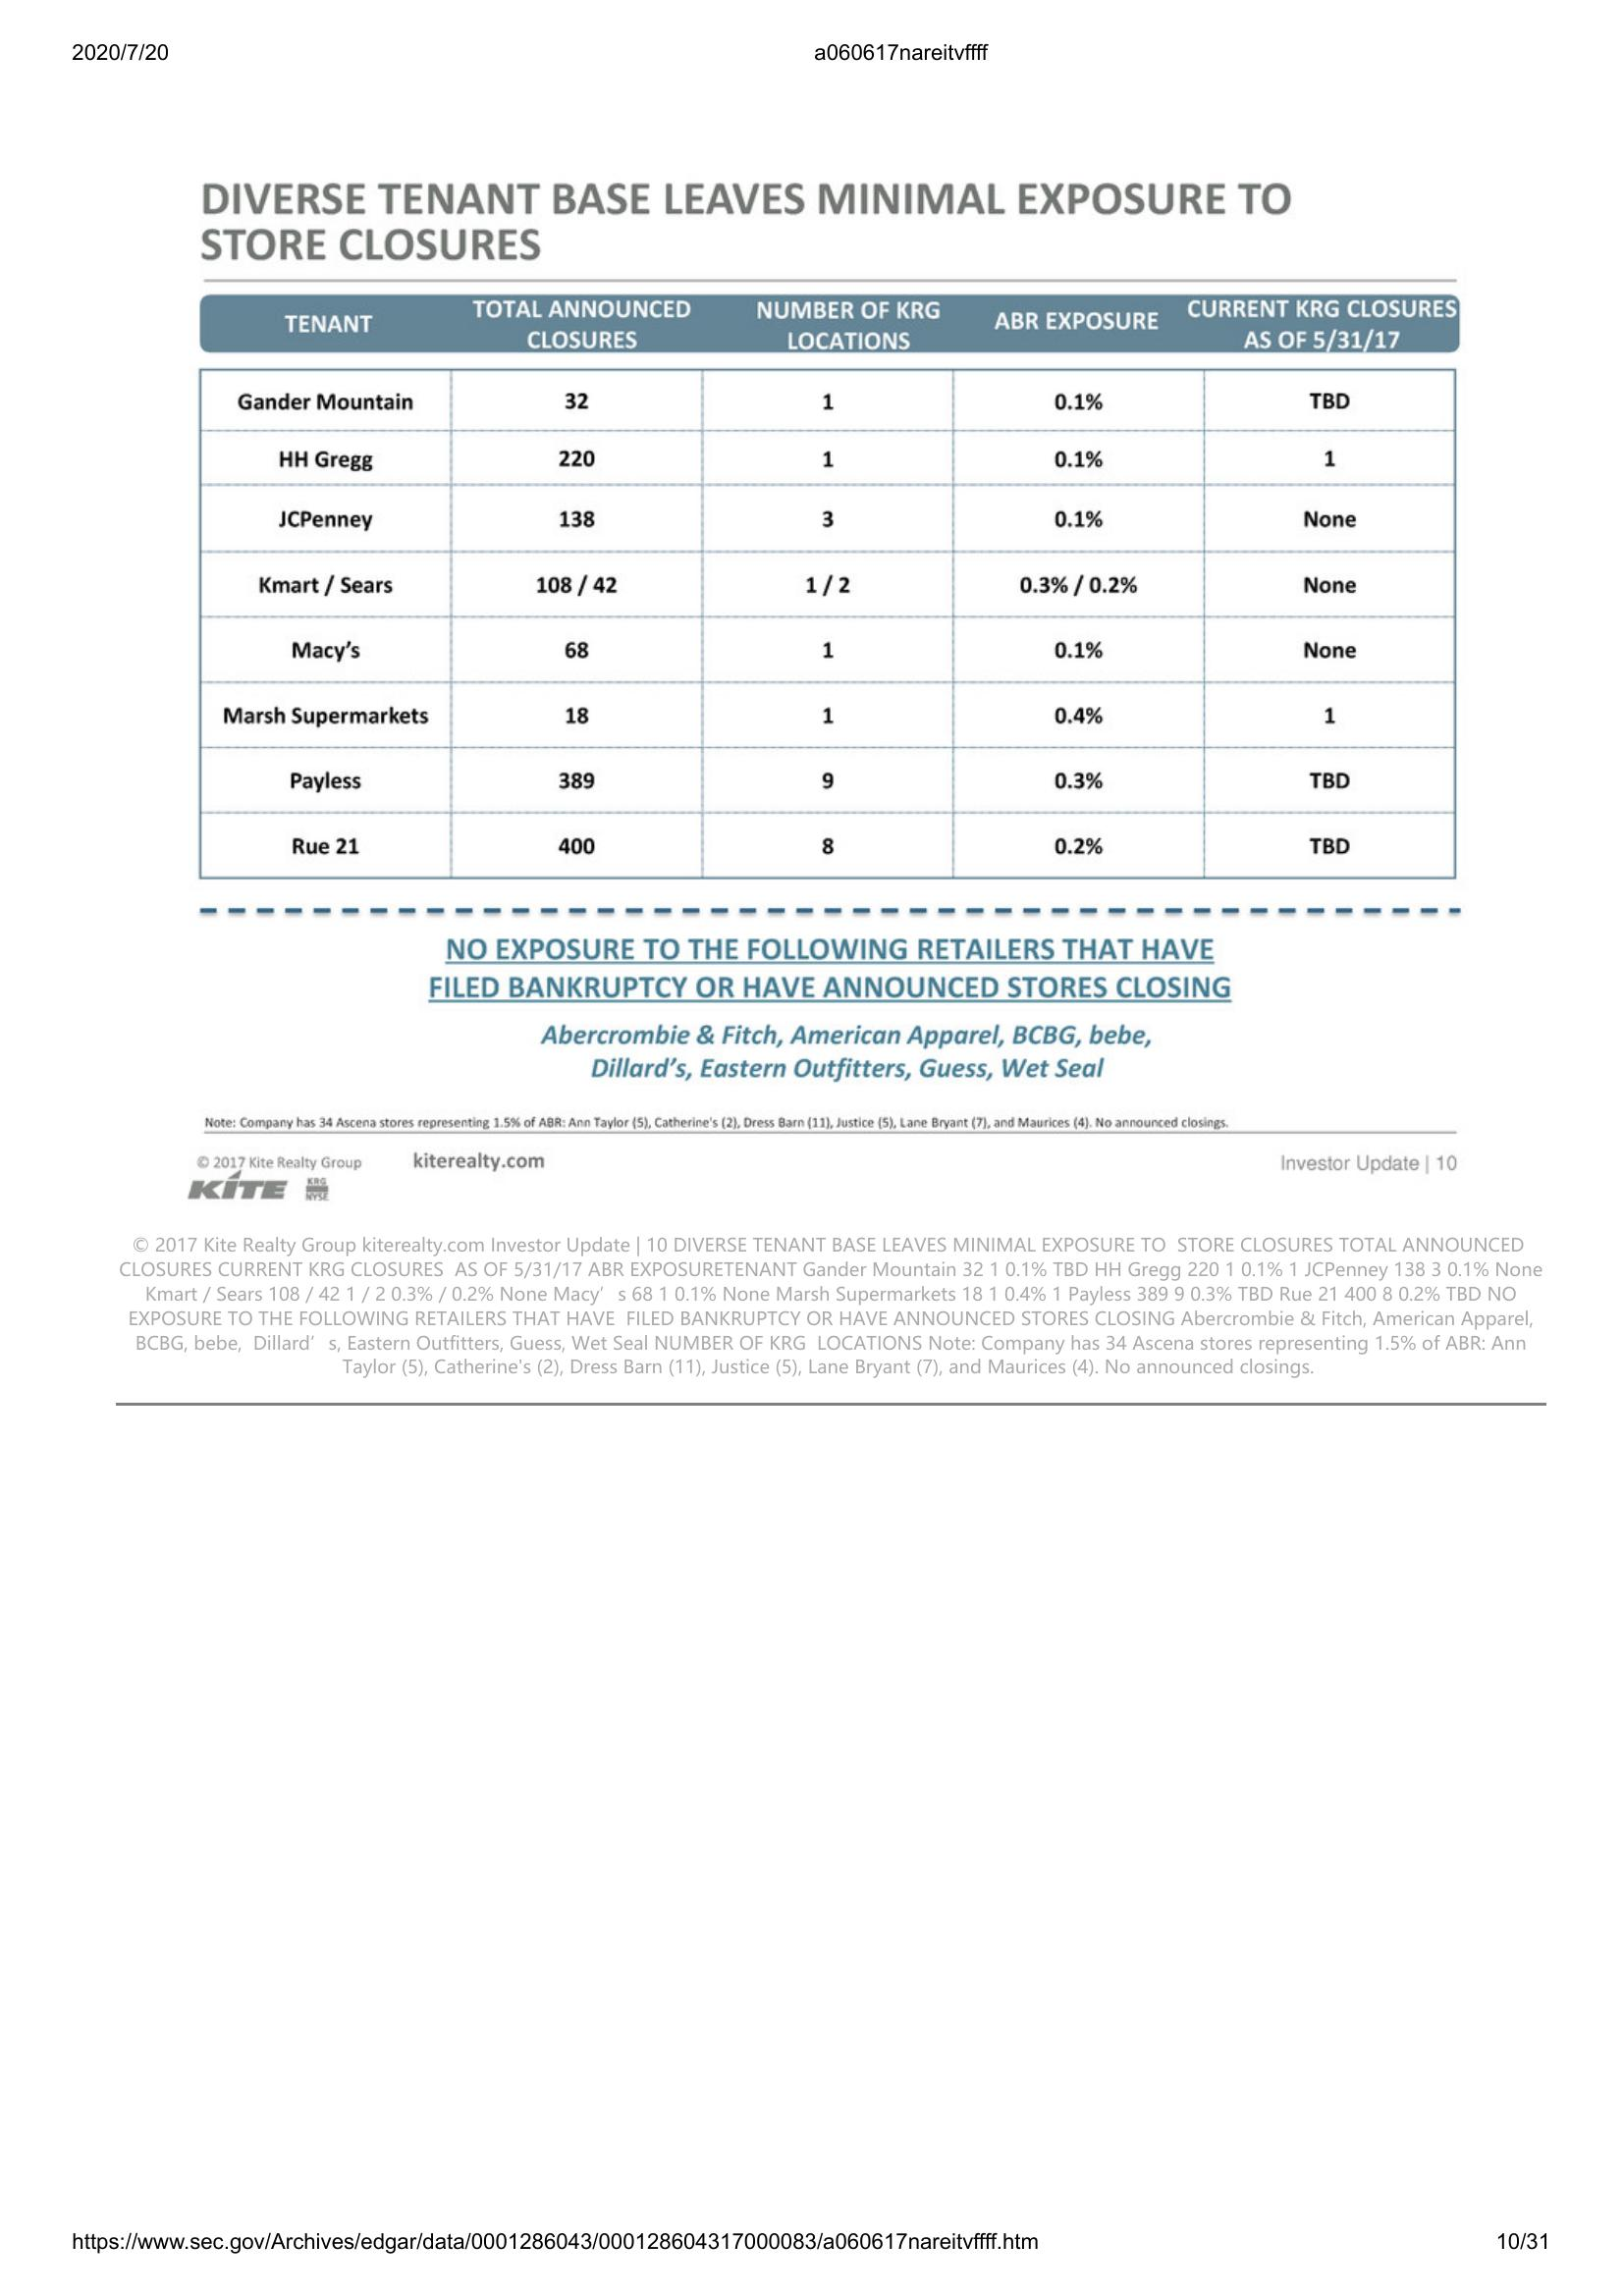table: (193, 358, 1461, 890)
